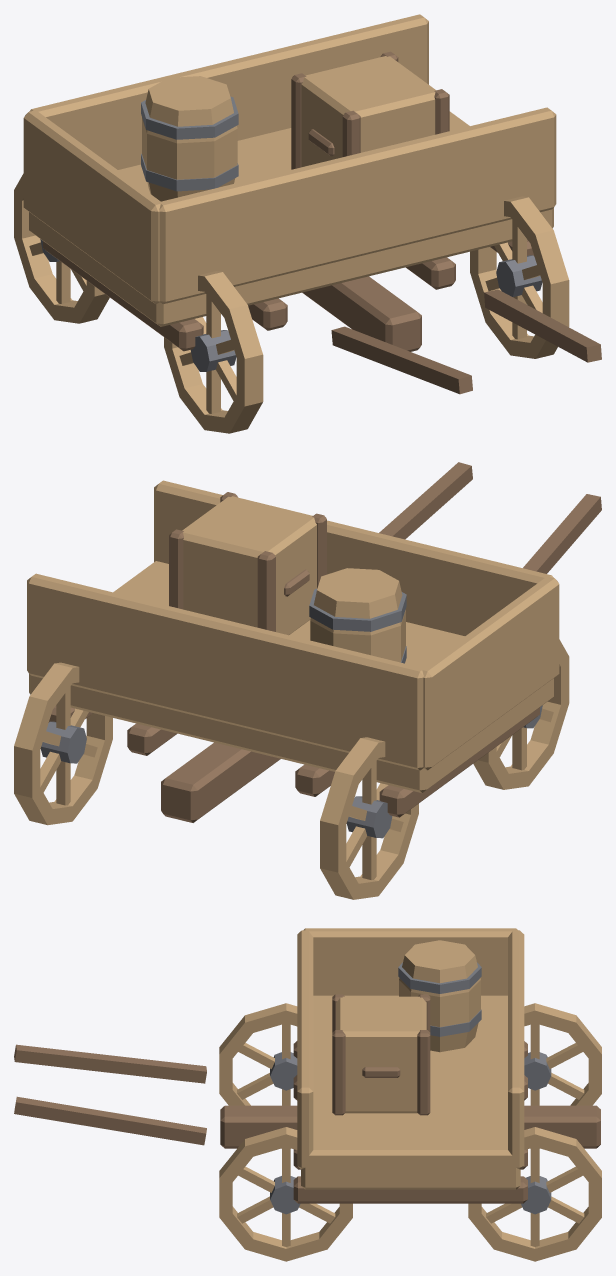
File: ob_cart.glb
The picture shows the model from 3 angles, top to bottom: view 1: azimuth 30°, elevation 25°; view 2: azimuth 150°, elevation 25°; view 3: azimuth 270°, elevation 25°; orthographic projection. The views are drawn at different scales.
Parts seen in each view (by area): view 1: cargo-cart_0, cargo-cart_1, wheel-rl/iron; view 2: cargo-cart_0, cargo-cart_1, wheel-rl/iron; view 3: cargo-cart_0, cargo-cart_1, wheel-rl/iron.
Part boxes in pixels (left/top/right/bottom): cargo-cart_0: left=14, top=14, right=569, bottom=433; cargo-cart_1: left=43, top=51, right=601, bottom=394; wheel-rl/iron: left=40, top=96, right=542, bottom=371; cargo-cart_0: left=14, top=480, right=569, bottom=899; cargo-cart_1: left=48, top=462, right=601, bottom=822; wheel-rl/iron: left=40, top=588, right=542, bottom=838; cargo-cart_0: left=219, top=928, right=601, bottom=1261; cargo-cart_1: left=14, top=994, right=600, bottom=1203; wheel-rl/iron: left=270, top=962, right=551, bottom=1214.
Size of the model in its own units: 2.63 by 1.56 by 4.02.
